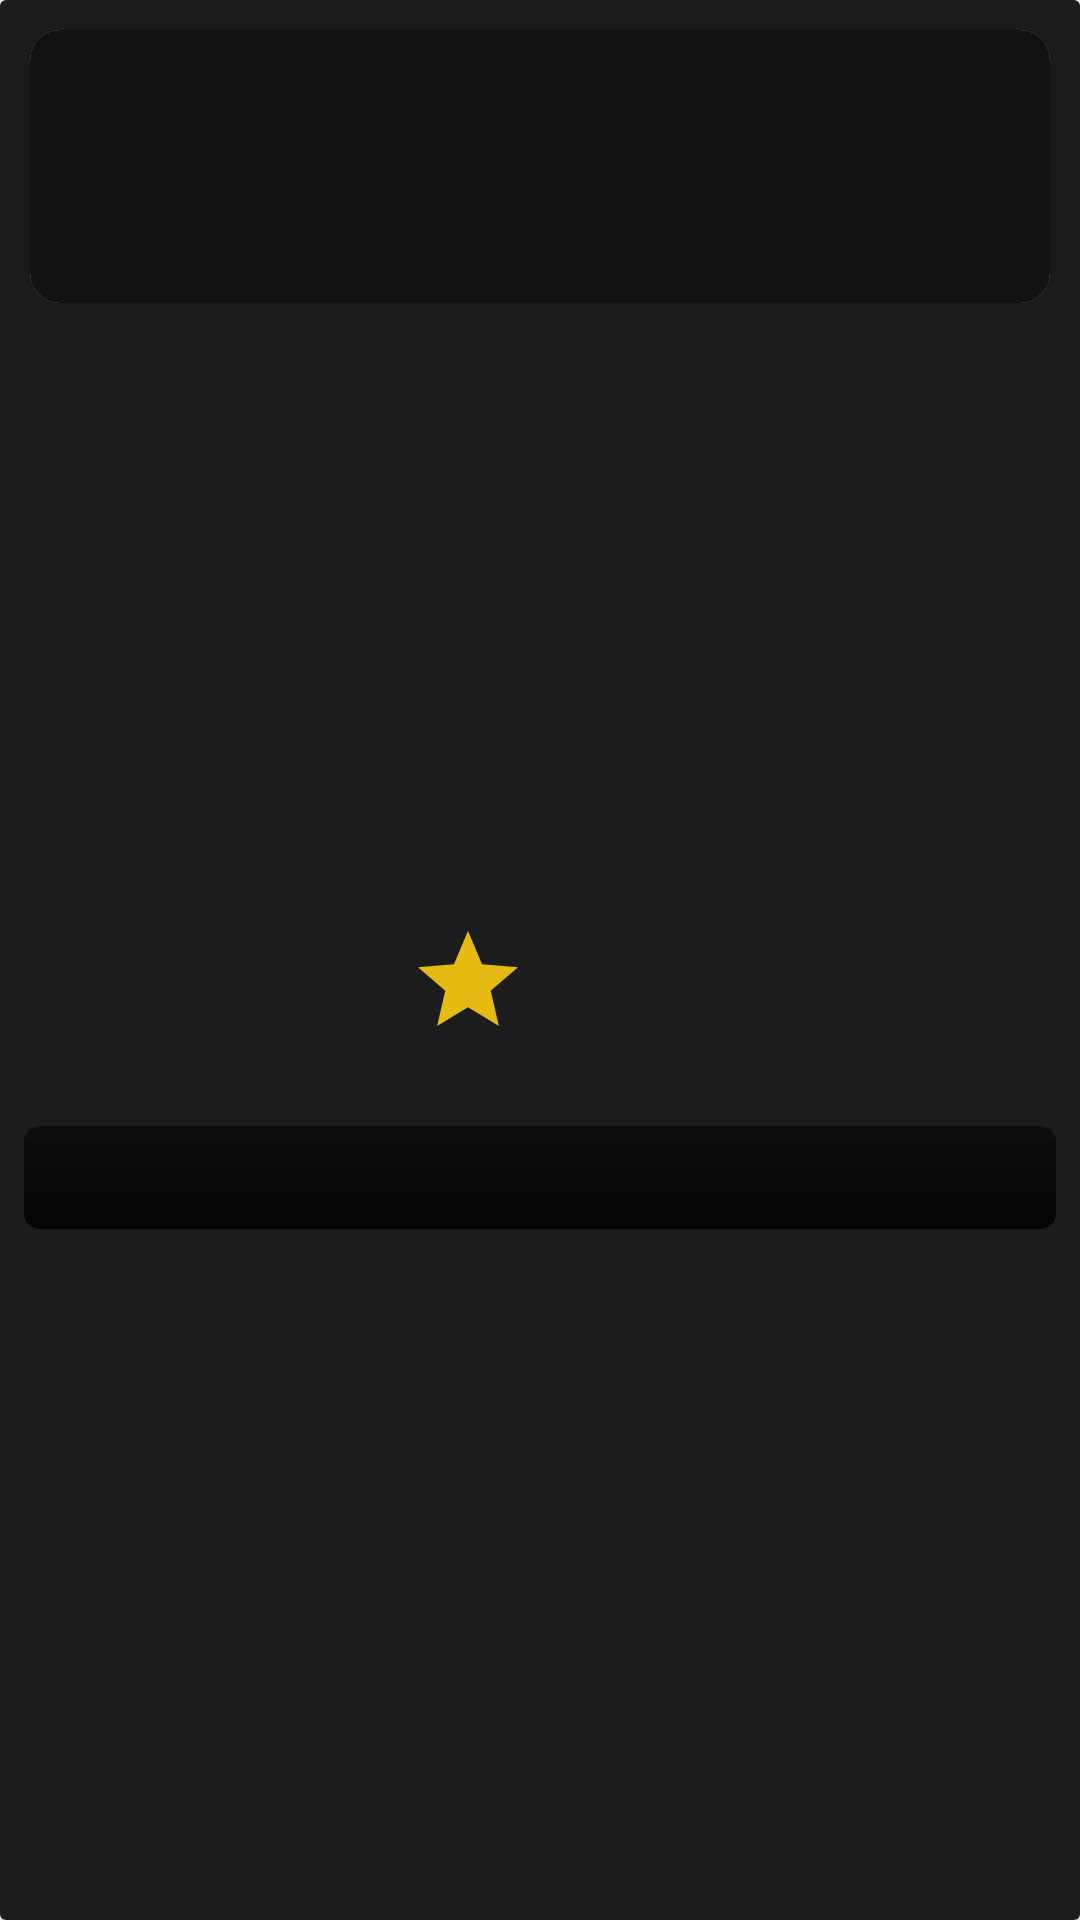

Where icons sit on this 1080×1920 app screen, as (x1, y1, x2, y2):
star: (418, 931, 518, 1026)
